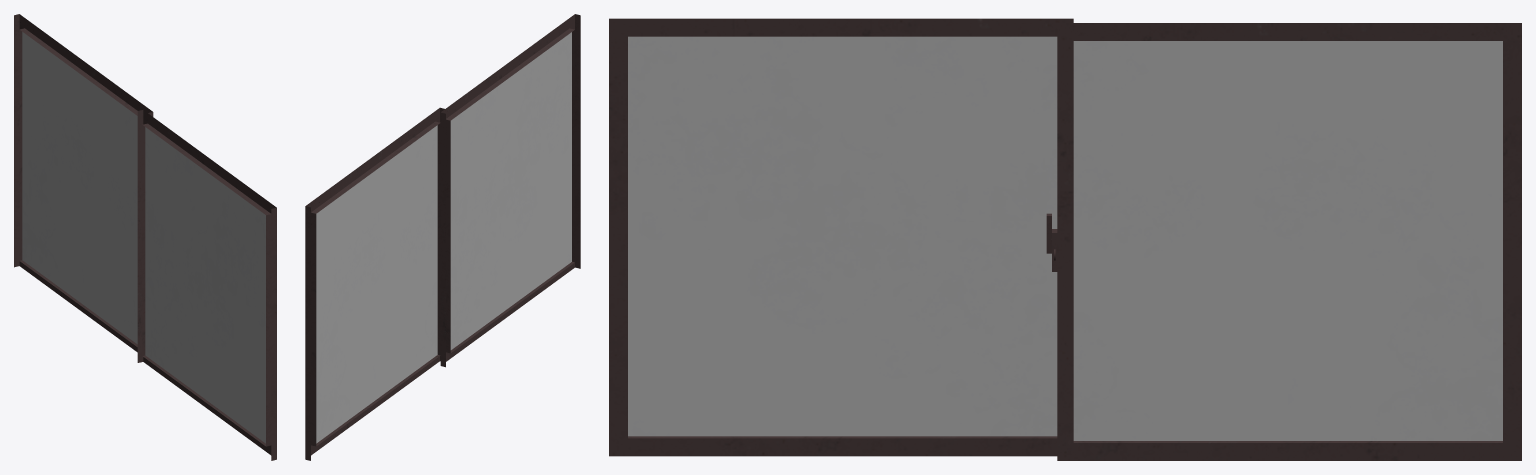
The model's file is Windows.fbx.
3 views of the same model, side by side, from view 1: azimuth 30°, elevation 25°; view 2: azimuth 150°, elevation 25°; view 3: azimuth 270°, elevation 25° (orthographic). The views are drawn at different scales.
Visible parts, largest first — view 1: Glass_L_geo, Glass_R_geo, Window_L_geo, Window_R_geo; view 2: Glass_R_geo, Glass_L_geo, Window_L_geo, Window_R_geo; view 3: Glass_R_geo, Glass_L_geo, Window_R_geo, Window_L_geo.
Boxes of the visible parts, bbox=[...] form: Glass_L_geo: bbox=[145, 127, 265, 443]; Glass_R_geo: bbox=[22, 32, 137, 344]; Window_L_geo: bbox=[137, 110, 276, 460]; Window_R_geo: bbox=[14, 14, 153, 352]; Glass_R_geo: bbox=[316, 125, 437, 443]; Glass_L_geo: bbox=[450, 32, 571, 349]; Window_L_geo: bbox=[440, 14, 580, 367]; Window_R_geo: bbox=[305, 107, 444, 460]; Glass_R_geo: bbox=[1073, 41, 1502, 440]; Glass_L_geo: bbox=[628, 36, 1057, 436]; Window_R_geo: bbox=[1046, 23, 1521, 460]; Window_L_geo: bbox=[609, 18, 1073, 456].
Bounding box in the file's own units: 4.47 × 90 × 170.
